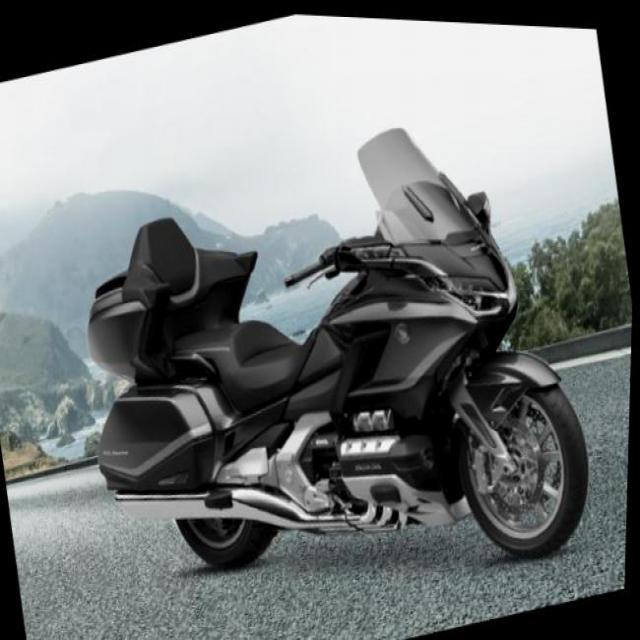Gold Wing: (53, 71, 614, 638)
